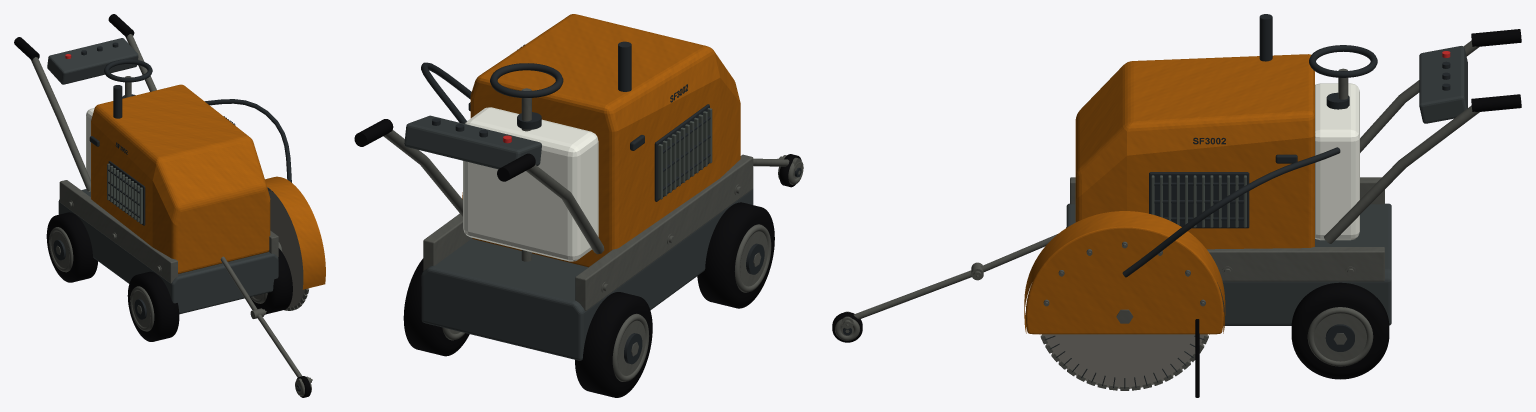
The picture shows the model from 3 angles, left to right: view 1: azimuth 30°, elevation 25°; view 2: azimuth 150°, elevation 25°; view 3: azimuth 270°, elevation 25°; orthographic projection. The views are drawn at different scales.
Parts seen in each view (by area): view 1: cover, frame, controls, blade_guard, blade; view 2: cover, frame, controls, blade_guard; view 3: cover, blade_guard, frame, controls, blade.
Part boxes in pixels (x1,y1,x2,y2): cover: (86, 84, 270, 273); frame: (46, 180, 292, 341); controls: (14, 14, 312, 397); blade_guard: (205, 99, 325, 289); blade: (267, 187, 308, 310); cover: (463, 14, 740, 267); frame: (403, 154, 774, 397); controls: (354, 63, 803, 261); blade_guard: (421, 62, 471, 199); cover: (1075, 14, 1359, 249); blade_guard: (1024, 147, 1340, 397); frame: (1066, 177, 1391, 379); controls: (832, 29, 1521, 342); blade: (1040, 309, 1209, 390).
Bounding box in the file's own units: 1.14 × 1.28 × 2.68.
12 materials, 3 textured.
